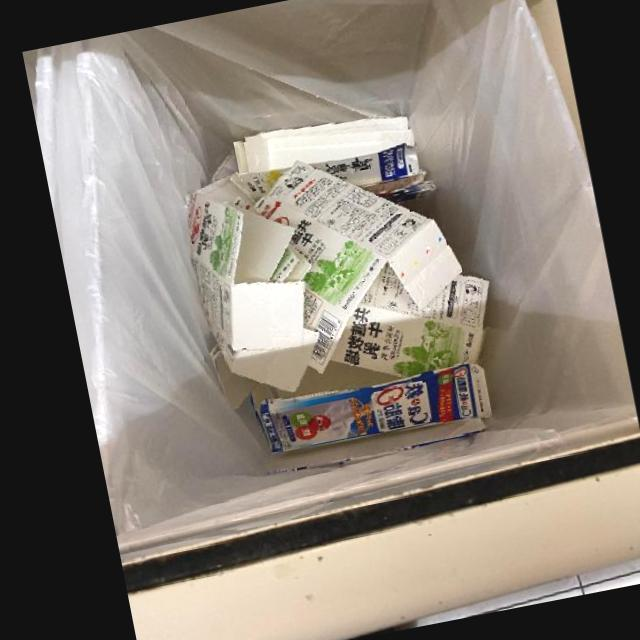carton: (253, 161, 464, 375), (189, 180, 319, 394), (255, 363, 492, 469), (331, 262, 490, 378), (233, 117, 436, 204)
